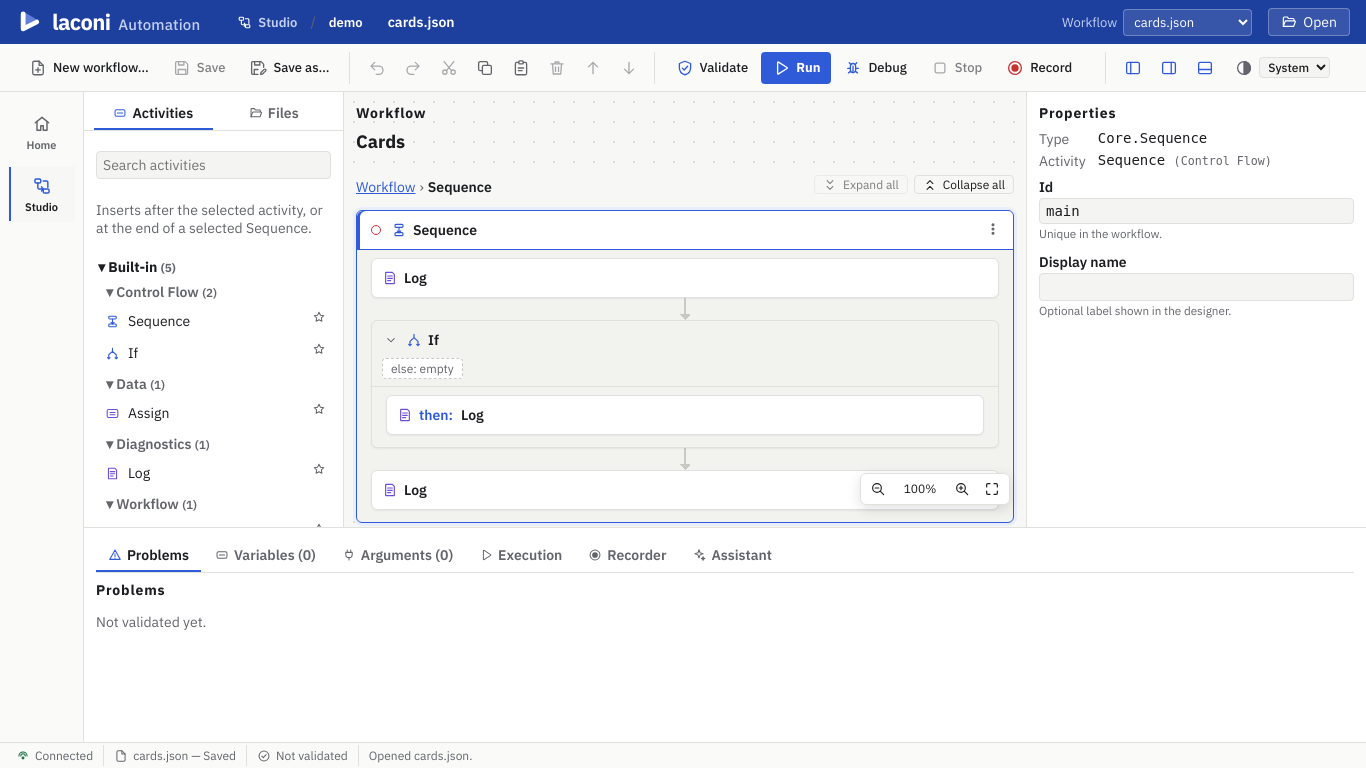
Test: Cards › shows only the icon and display name on a card, with type, id and values in its tooltip; the selected card has its actions, never editors
Click the 2nd element with class "node". click: {"x": 685, "y": 278}
box: x1=371 y1=258 x2=999 y2=298
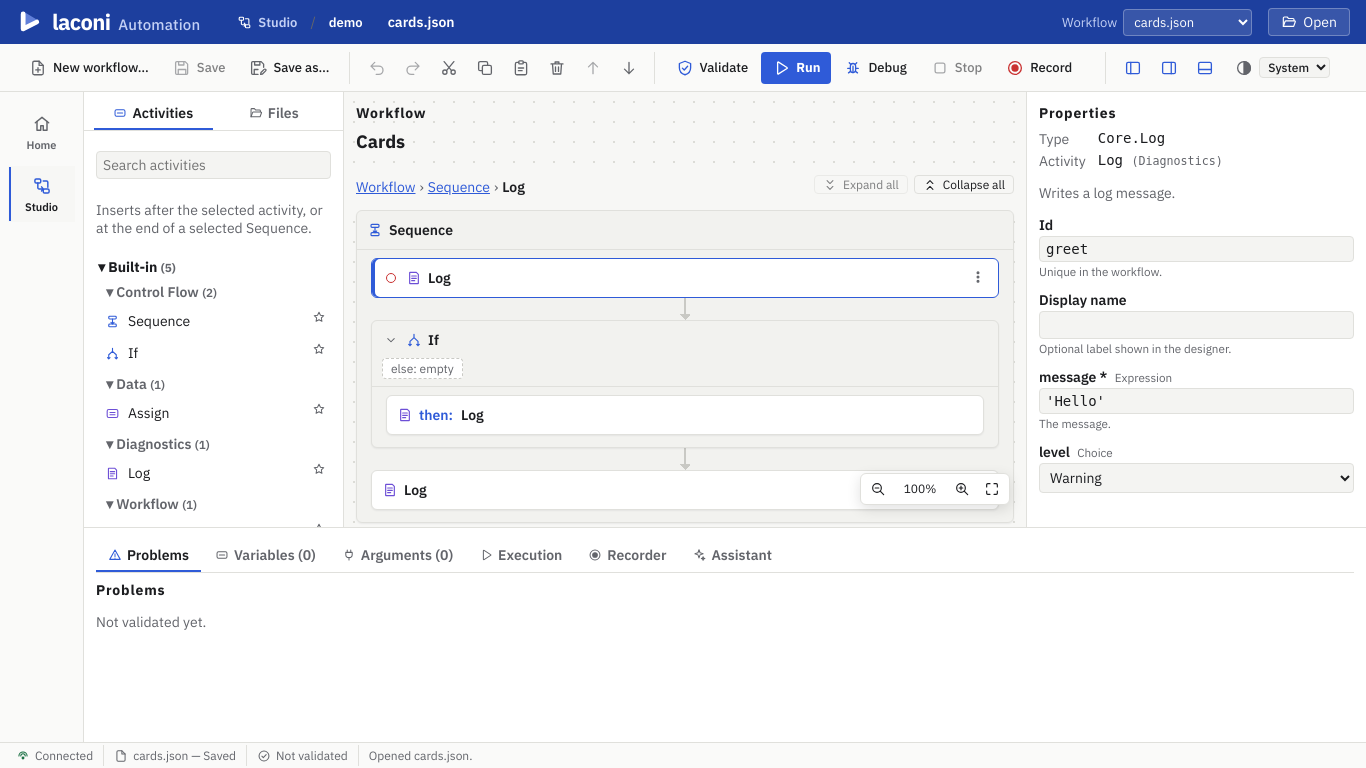
Check: the button named "Actions for Log" is shown, box x1=968 y1=266 x2=988 y2=286
